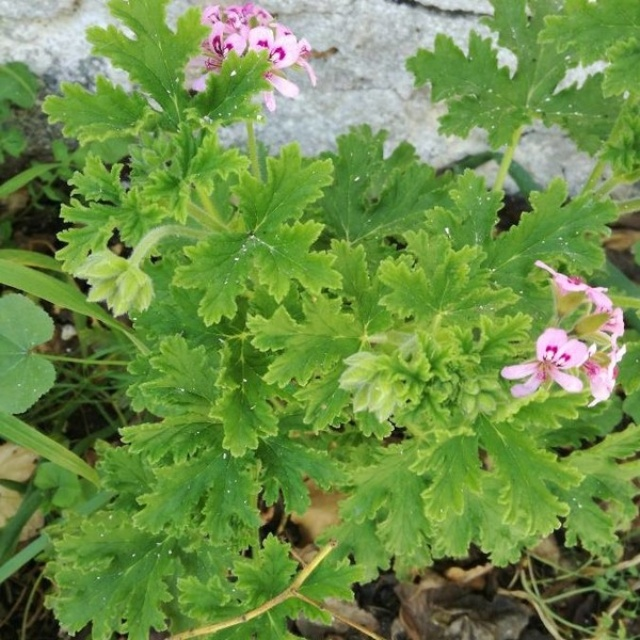obstacle: (31, 2, 617, 604), (98, 134, 509, 449)
